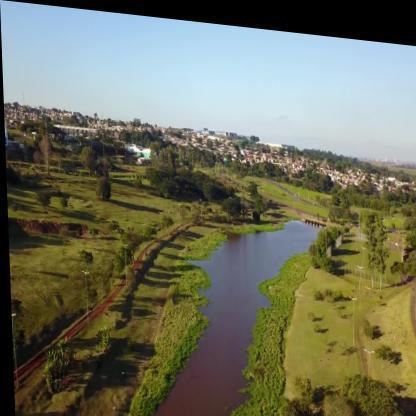agua: (200, 262, 253, 389)
